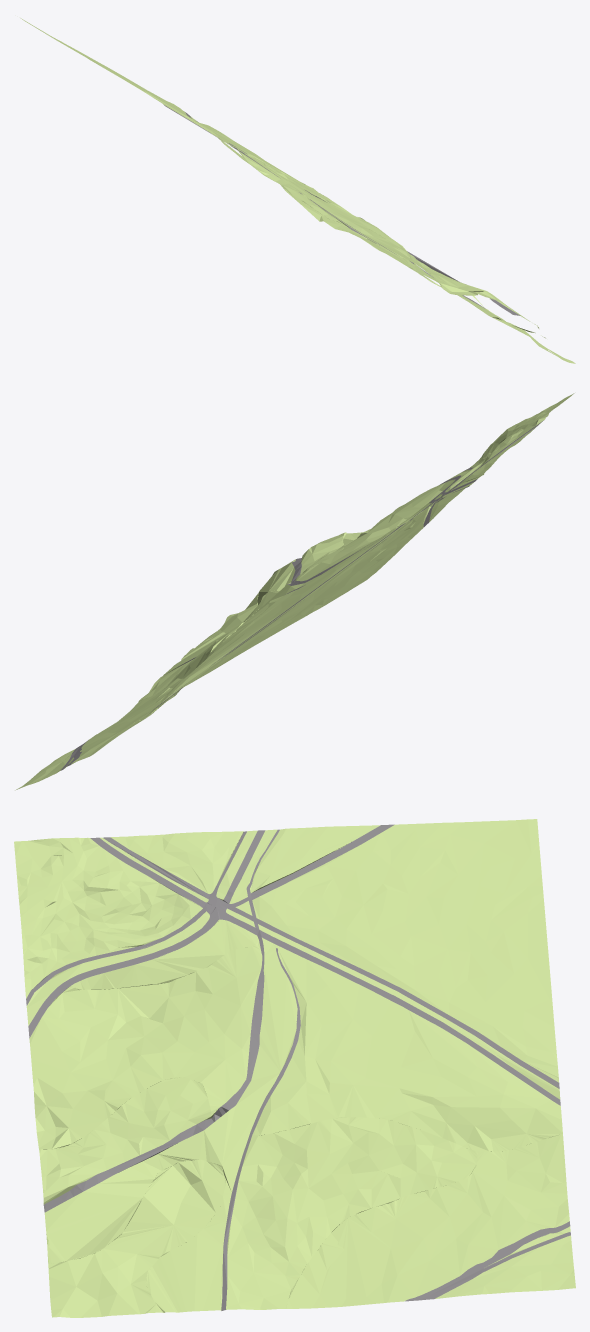
3 views of the same model, one above another, from view 1: azimuth 30°, elevation 25°; view 2: azimuth 150°, elevation 25°; view 3: azimuth 270°, elevation 25° (orthographic). The views are drawn at different scales.
Size of the model in its own units: 213 by 164 by 267.
